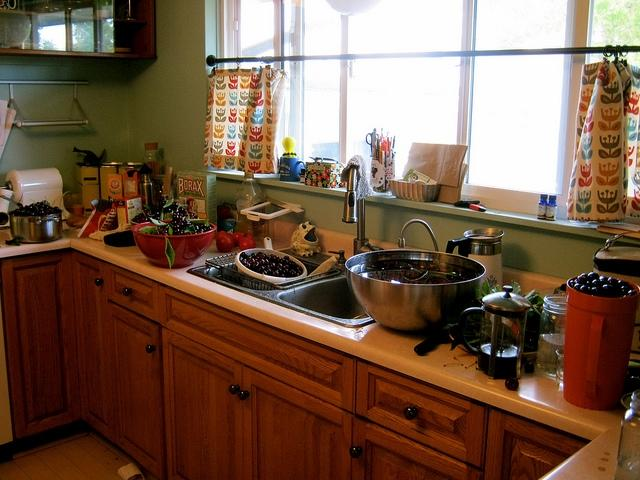cherry: (602, 284, 614, 294), (591, 287, 602, 296), (578, 276, 588, 285), (620, 286, 630, 294), (608, 277, 618, 284), (240, 252, 248, 260), (580, 286, 588, 294), (270, 255, 278, 263), (592, 280, 602, 286), (628, 290, 638, 296), (184, 222, 192, 229), (172, 228, 180, 235), (160, 199, 167, 206), (258, 259, 266, 265), (570, 280, 576, 288), (53, 206, 59, 214), (258, 266, 266, 272), (278, 258, 286, 264), (270, 271, 278, 277), (250, 263, 256, 270), (280, 272, 287, 278), (253, 256, 260, 262), (170, 220, 177, 226), (205, 226, 212, 232), (269, 264, 276, 270), (275, 268, 282, 274), (260, 254, 266, 260), (284, 255, 290, 261), (266, 269, 272, 275), (172, 202, 178, 208), (283, 268, 289, 274), (28, 206, 34, 212), (250, 253, 256, 259), (260, 270, 266, 276), (38, 210, 45, 215), (288, 260, 293, 266), (178, 207, 183, 213), (20, 207, 26, 212), (277, 264, 282, 269), (154, 212, 160, 216), (288, 274, 294, 278), (574, 278, 578, 284), (264, 256, 270, 260), (295, 266, 300, 270), (15, 208, 20, 212), (35, 211, 39, 216), (23, 212, 28, 216), (265, 266, 269, 270), (178, 226, 182, 230), (290, 270, 294, 274), (180, 218, 184, 222), (200, 229, 205, 232), (275, 262, 280, 265), (263, 253, 268, 256), (157, 227, 161, 230), (32, 213, 36, 216), (44, 212, 48, 215), (41, 204, 44, 207), (16, 214, 20, 216)
